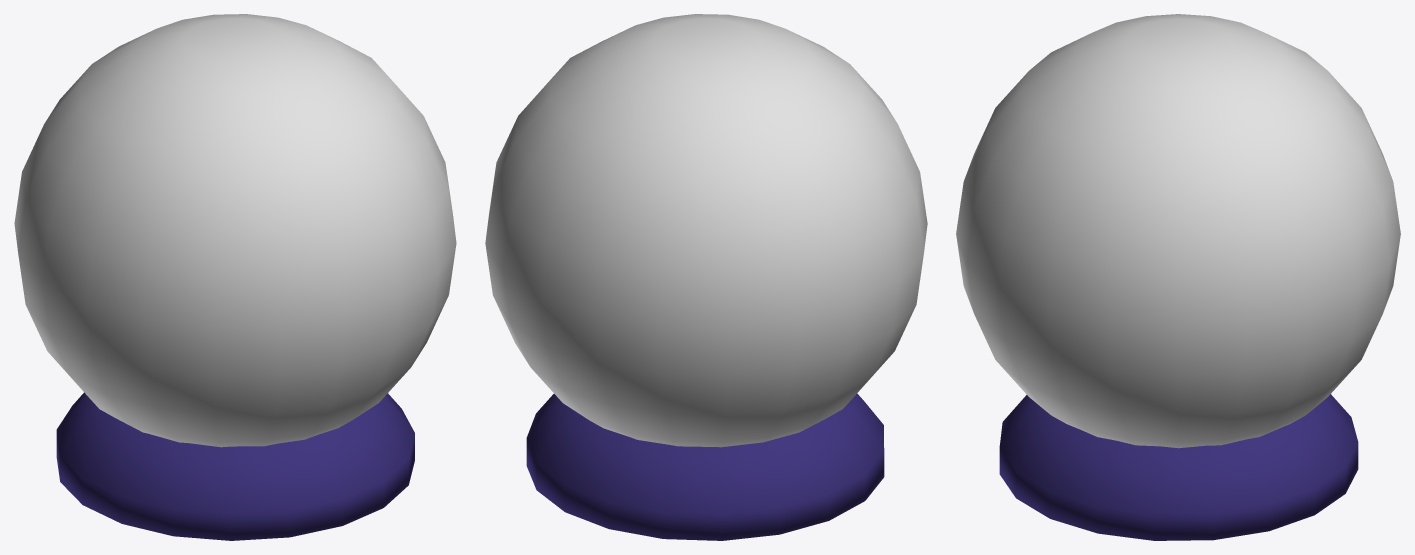
Rendered from item_bola-de-cristal.fbx.
The picture shows the model from 3 angles, left to right: view 1: azimuth 30°, elevation 25°; view 2: azimuth 150°, elevation 25°; view 3: azimuth 270°, elevation 25°; orthographic projection.
Visible parts, largest first — view 1: Sphere, Cylinder; view 2: Sphere, Cylinder; view 3: Sphere, Cylinder.
Boxes of the visible parts, left/top/right/bottom form: Sphere: left=14, top=14, right=456, bottom=447; Cylinder: left=56, top=392, right=414, bottom=540; Sphere: left=485, top=14, right=927, bottom=447; Cylinder: left=526, top=393, right=884, bottom=540; Sphere: left=956, top=14, right=1400, bottom=448; Cylinder: left=999, top=394, right=1358, bottom=540.
Bounding box in the file's own units: 200 × 211 × 200.
